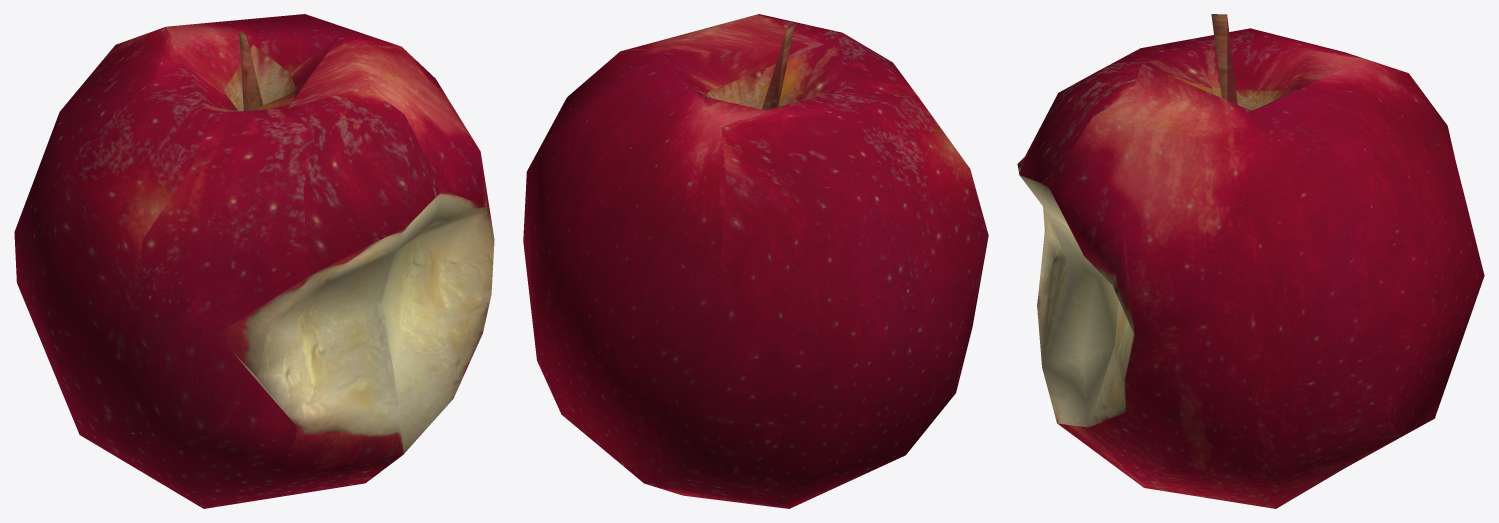
File: apple_midX1.obj
3 views of the same model, side by side, from view 1: azimuth 30°, elevation 25°; view 2: azimuth 150°, elevation 25°; view 3: azimuth 270°, elevation 25° (orthographic). The views are drawn at different scales.
Visible parts, largest first — view 1: tgzpdhlpa_LOD0_TIER2_000; view 2: tgzpdhlpa_LOD0_TIER2_000; view 3: tgzpdhlpa_LOD0_TIER2_000.
Part boxes in pixels (<box>): tgzpdhlpa_LOD0_TIER2_000: <box>14,14,494,508</box>; tgzpdhlpa_LOD0_TIER2_000: <box>523,14,988,508</box>; tgzpdhlpa_LOD0_TIER2_000: <box>1017,14,1484,508</box>.
Bounding box in the file's own units: 0.7706 × 0.7982 × 0.7634.
Materials: 1 (1 with a texture image).
